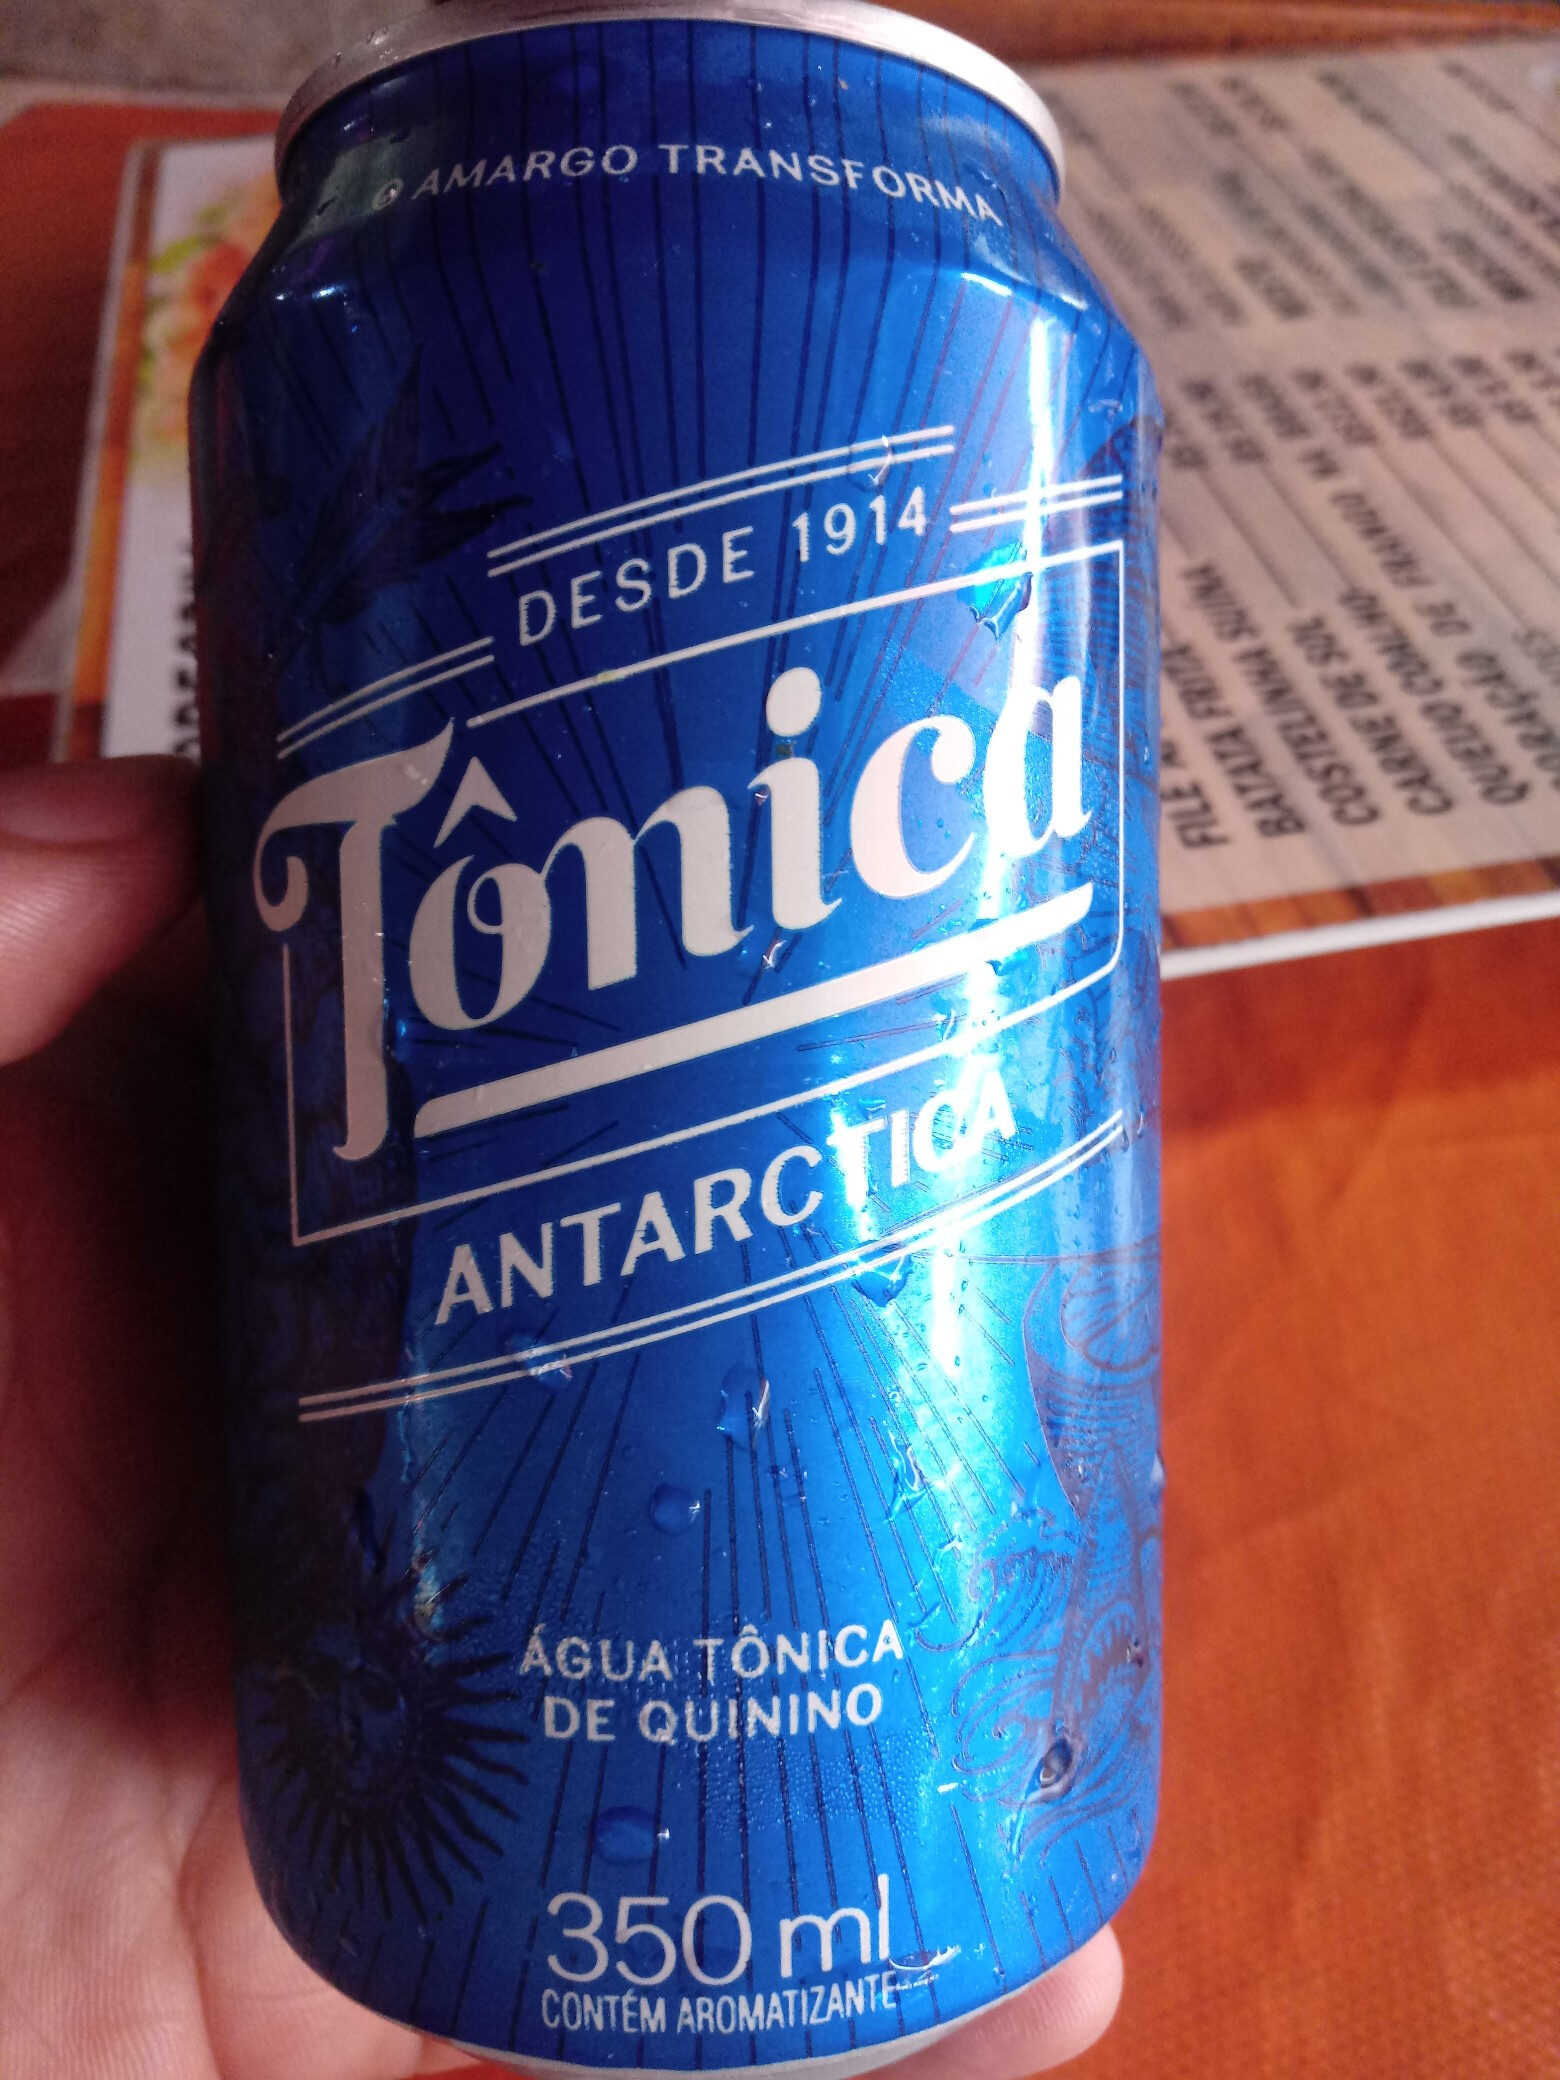tonica: (120, 52, 1180, 2049)
